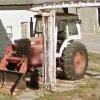Tractor: (8, 15, 88, 81)
